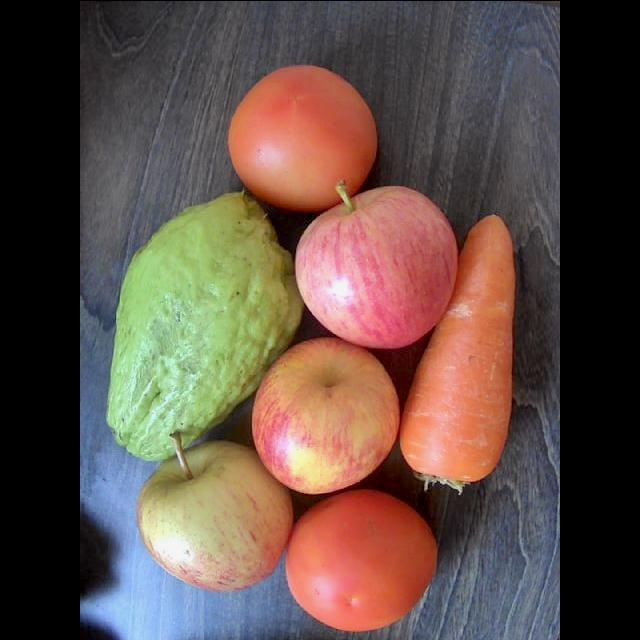chayote: (107, 191, 303, 459)
manzana: (295, 181, 457, 347), (137, 433, 292, 590), (252, 337, 399, 493)
tomate: (229, 64, 376, 209), (286, 489, 437, 630)
zanahoria: (400, 213, 513, 490)
